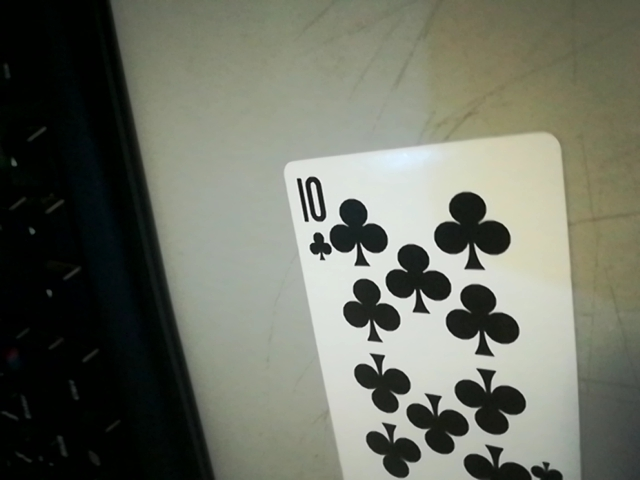mh 10: (282, 161, 338, 264)
